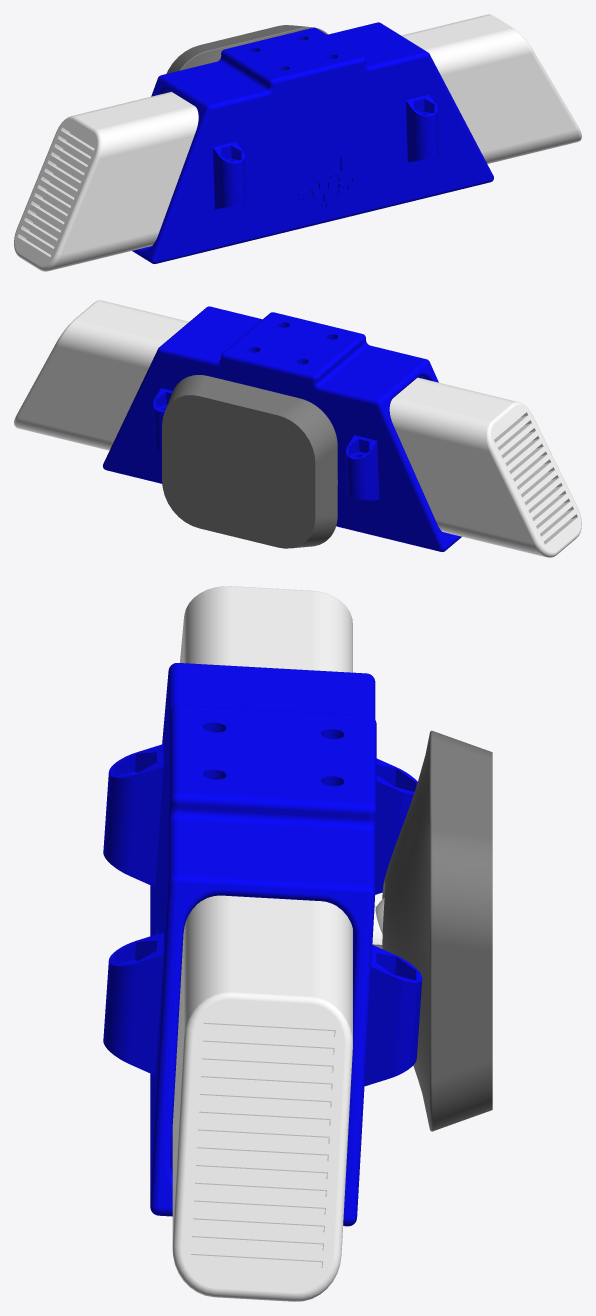
File: Kinect v3.fbx
3 renders of one model, top to bottom at view 1: azimuth 30°, elevation 25°; view 2: azimuth 150°, elevation 25°; view 3: azimuth 270°, elevation 25°, orthographic. The views are drawn at different scales.
Visible parts, largest first — view 1: Body1 (×3), Body10; view 2: Body1 (×3), Body10; view 3: Body1 (×3), Body10.
Part boxes in pixels (bbox=[...]): Body1 (×3): bbox=[14, 14, 581, 271]; Body10: bbox=[151, 22, 462, 185]; Body1 (×3): bbox=[14, 300, 581, 557]; Body10: bbox=[130, 306, 438, 479]; Body1 (×3): bbox=[103, 586, 492, 1301]; Body10: bbox=[106, 663, 422, 1059].
Bounding box in the file's own units: 279 × 81.48 × 87.4.
